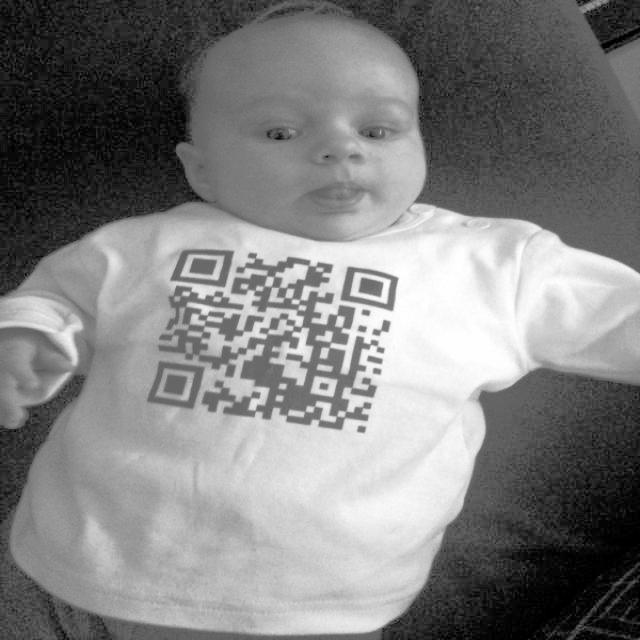qr_code: (147, 250, 398, 434)
